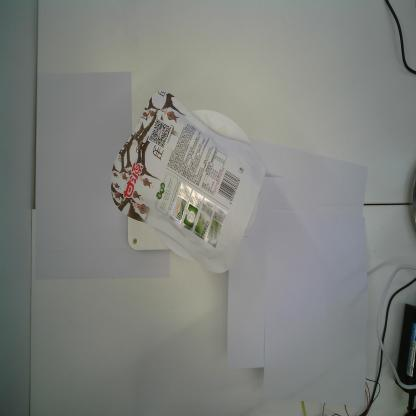Dried Fruit: (109, 90, 267, 274)
